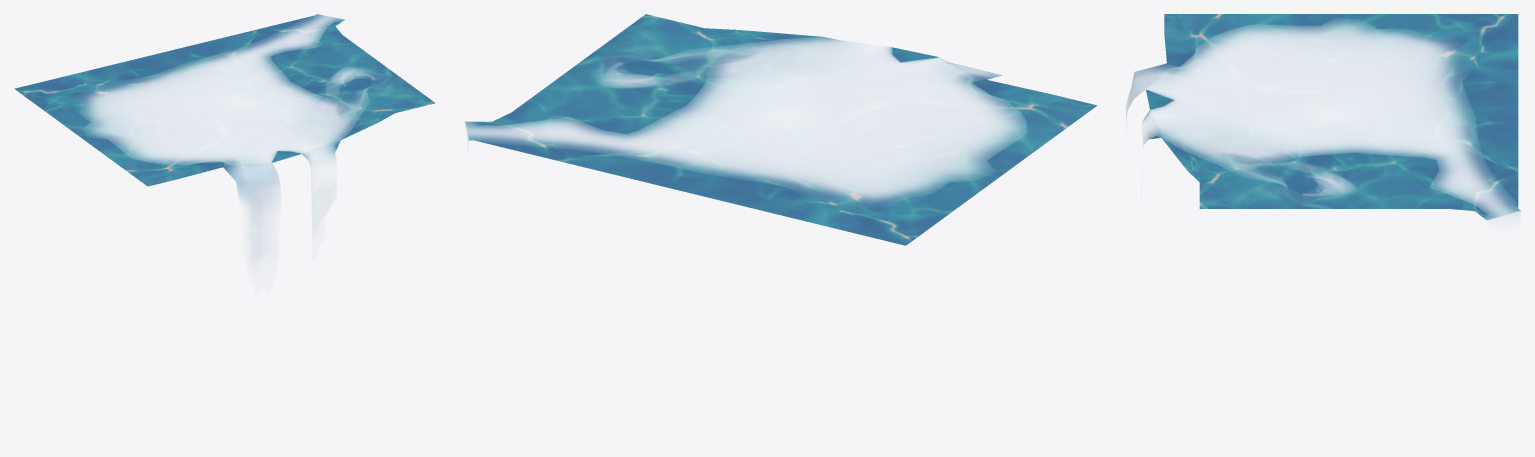
Rendered from water.glb.
The picture shows the model from 3 angles, left to right: view 1: azimuth 30°, elevation 25°; view 2: azimuth 150°, elevation 25°; view 3: azimuth 270°, elevation 25°; orthographic projection. The views are drawn at different scales.
Parts seen in each view (by area): view 1: Props_Lake.001; view 2: Props_Lake.001; view 3: Props_Lake.001.
Boxes of the visible parts, x1,y1,x2,y2 form: Props_Lake.001: (14,14,435,217); Props_Lake.001: (465,14,1097,245); Props_Lake.001: (1126,14,1520,220).
Size of the model in its own units: 50.44 by 40.02 by 40.77.
Materials: 1 (1 with a texture image).
